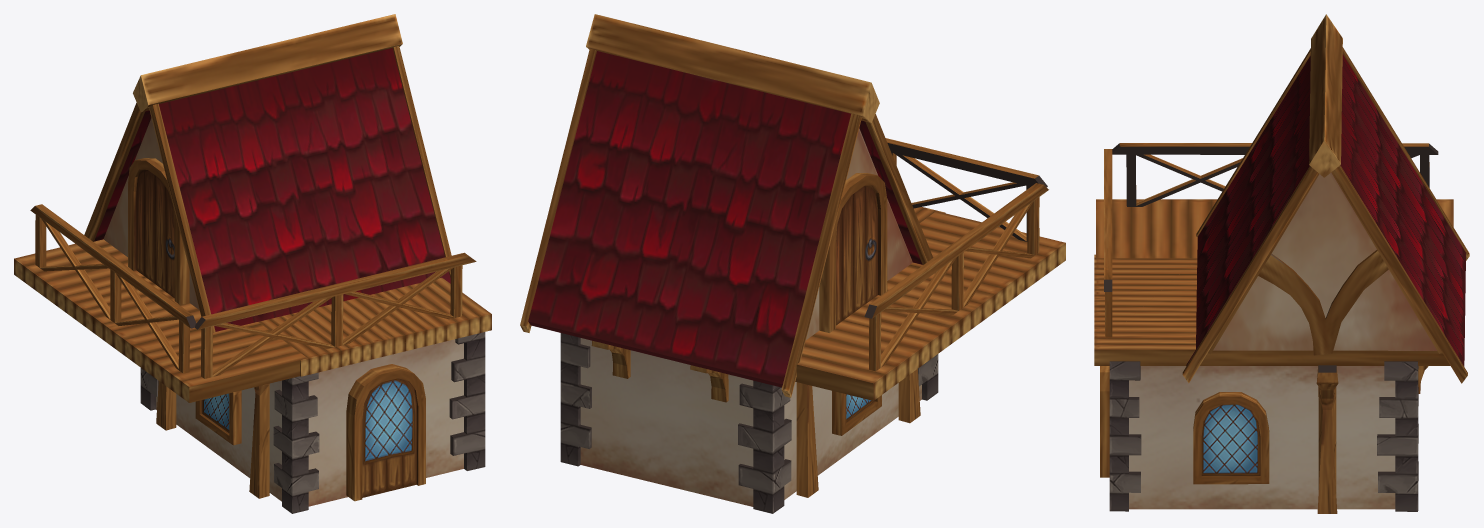
Rendered from building_3_5.FBX.
3 renders of one model, left to right at view 1: azimuth 30°, elevation 25°; view 2: azimuth 150°, elevation 25°; view 3: azimuth 270°, elevation 25°, orthographic. The views are drawn at different scales.
Parts seen in each view (by area): view 1: building_3_5; view 2: building_3_5; view 3: building_3_5.
Boxes of the visible parts, bbox=[...] form: building_3_5: bbox=[14, 14, 491, 513]; building_3_5: bbox=[520, 14, 1065, 513]; building_3_5: bbox=[1094, 14, 1469, 513].
Bounding box in the file's own units: 249 × 280 × 250.
